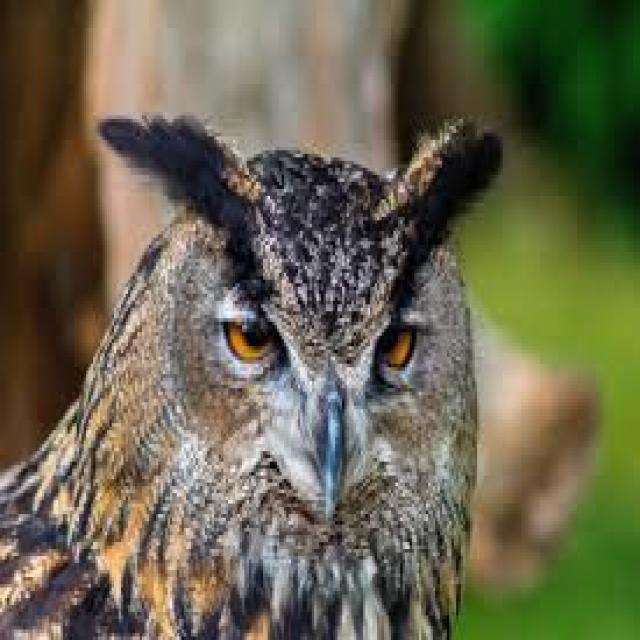Owl: (0, 91, 505, 640)
